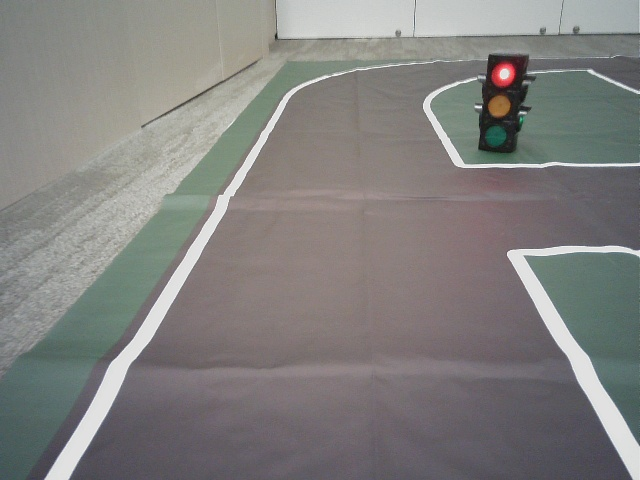red: (485, 58, 514, 149)
